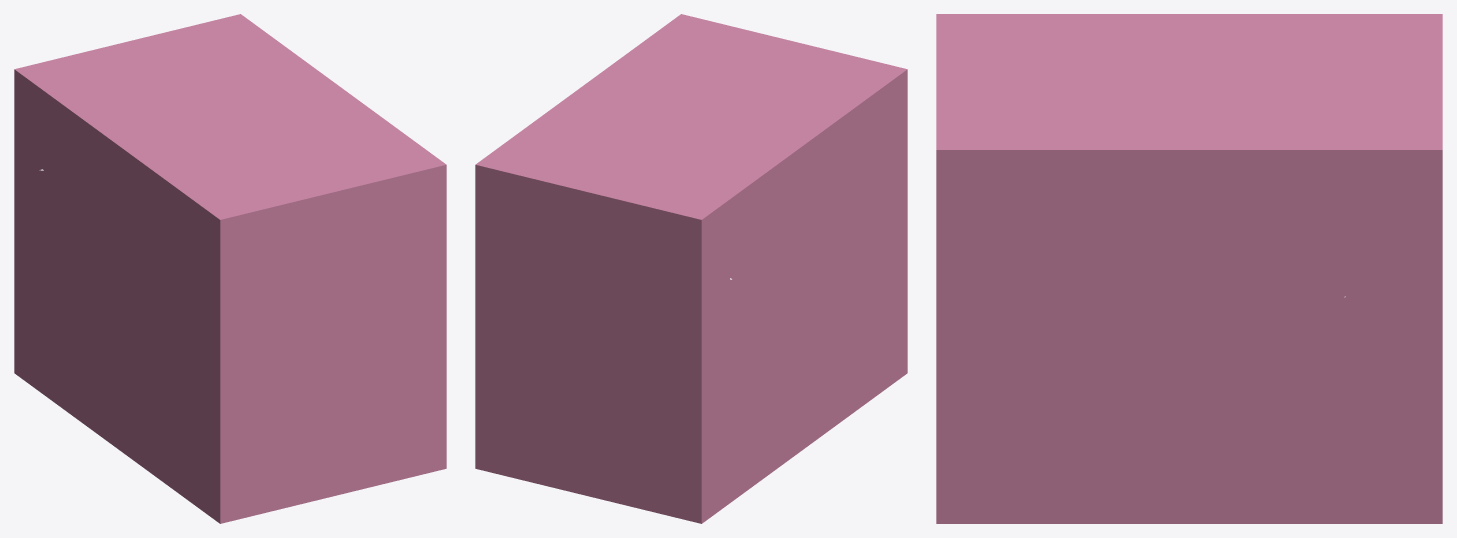
The model's file is tree_palm_overhang_a.dae.
3 renders of one model, left to right at view 1: azimuth 30°, elevation 25°; view 2: azimuth 150°, elevation 25°; view 3: azimuth 270°, elevation 25°, orthographic. The views are drawn at different scales.
Visible parts, largest first — view 1: Untitled; view 2: Untitled; view 3: Untitled.
Boxes of the visible parts, box(x1,y1,x2,y2) form: Untitled: box(14, 14, 446, 523); Untitled: box(475, 14, 907, 523); Untitled: box(936, 14, 1442, 523).
Bounding box in the file's own units: 8.53 × 13.22 × 10.77.
